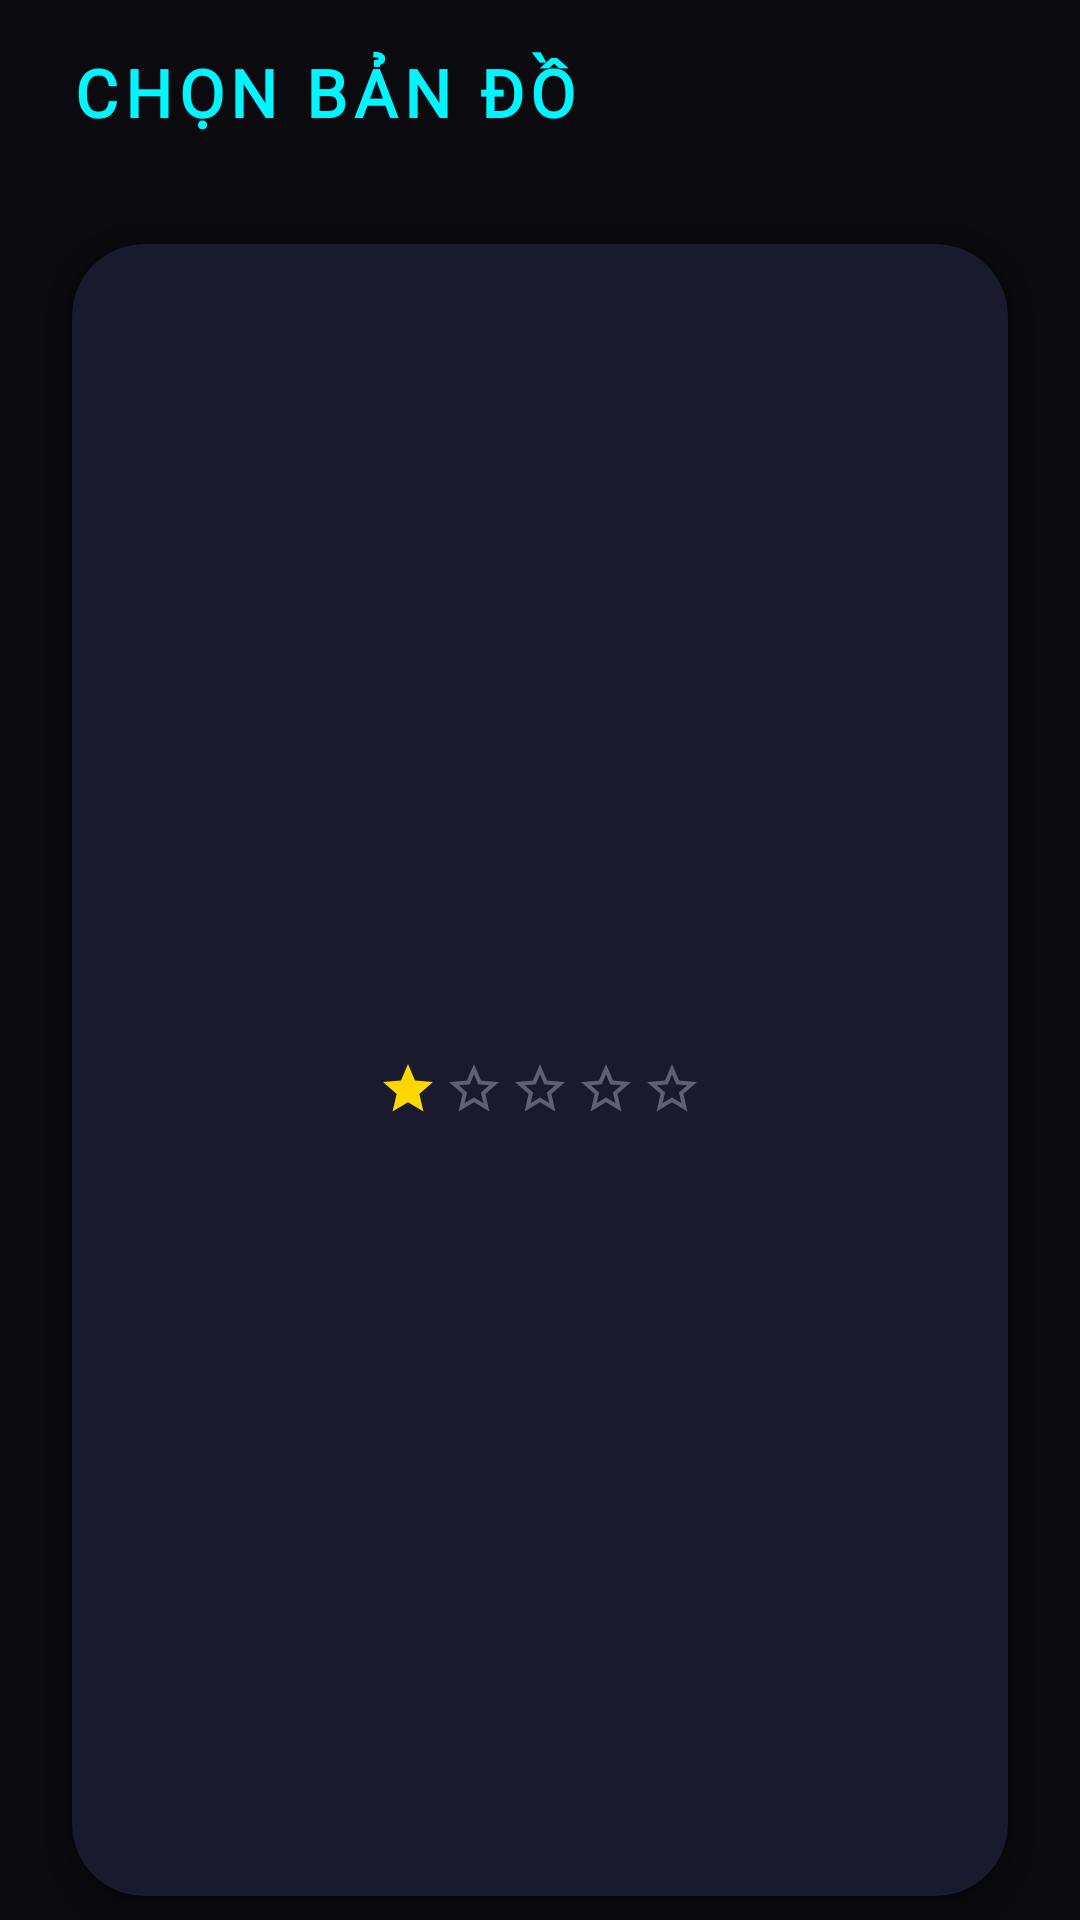

Locate icon controls on the screen. Image size 1080px×1920px, boxes as (x1, y1, x2, y2).
star: (383, 1064, 433, 1112)
star empty: (449, 1065, 499, 1111), (515, 1065, 565, 1111), (581, 1065, 631, 1111), (647, 1065, 697, 1111)
